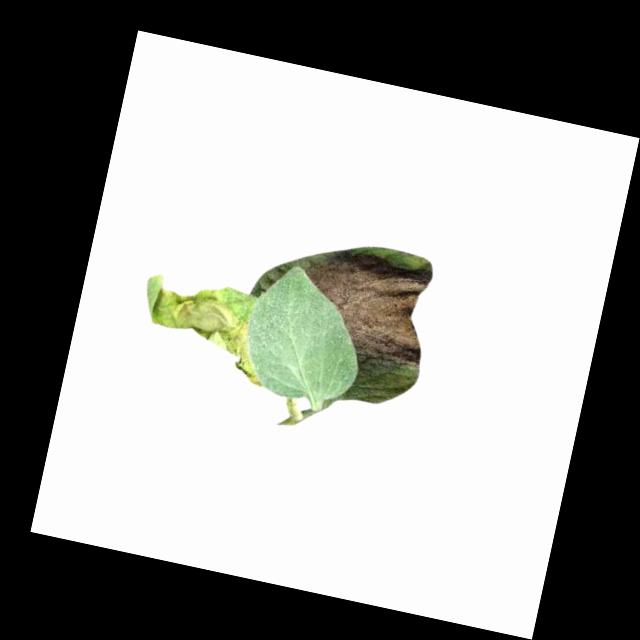Late_blight: (290, 241, 444, 374), (130, 272, 280, 388)
